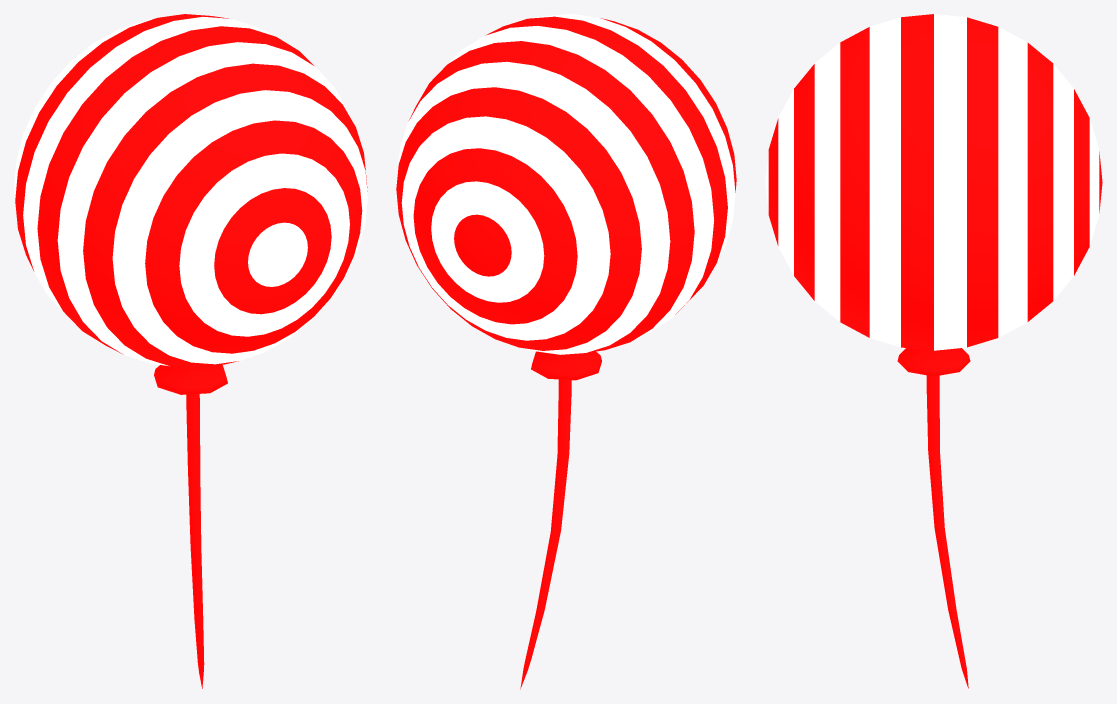
Rendered from redBalloon.glb.
The picture shows the model from 3 angles, left to right: view 1: azimuth 30°, elevation 25°; view 2: azimuth 150°, elevation 25°; view 3: azimuth 270°, elevation 25°; orthographic projection. The views are drawn at different scales.
Parts seen in each view (by area): view 1: redBalloon, Balloon-tail.007; view 2: redBalloon, Balloon-tail.007; view 3: redBalloon, Balloon-tail.007.
Boxes of the visible parts, x1,y1,x2,y2 form: redBalloon: [14, 14, 367, 394]; Balloon-tail.007: [186, 394, 204, 688]; redBalloon: [396, 14, 736, 380]; Balloon-tail.007: [520, 379, 571, 689]; redBalloon: [765, 14, 1102, 376]; Balloon-tail.007: [926, 375, 968, 688].
Size of what is drawn, in the model's own units: 2 by 4.23 by 2.
